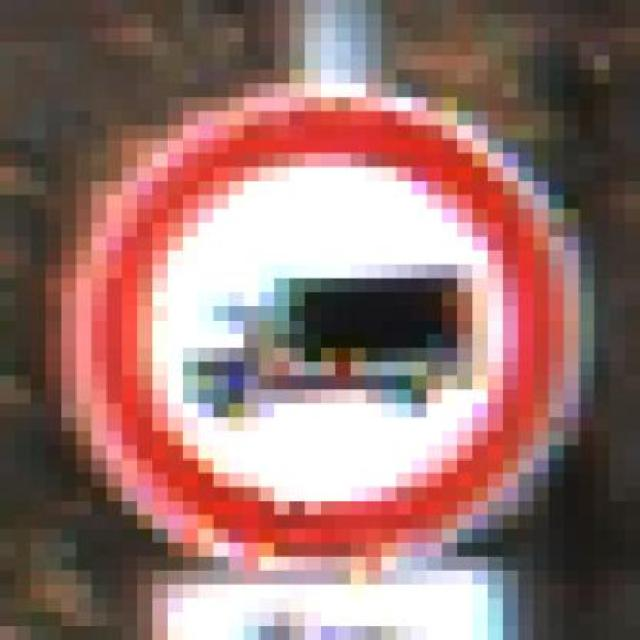Truck traffic is prohibited: (61, 42, 594, 584)
